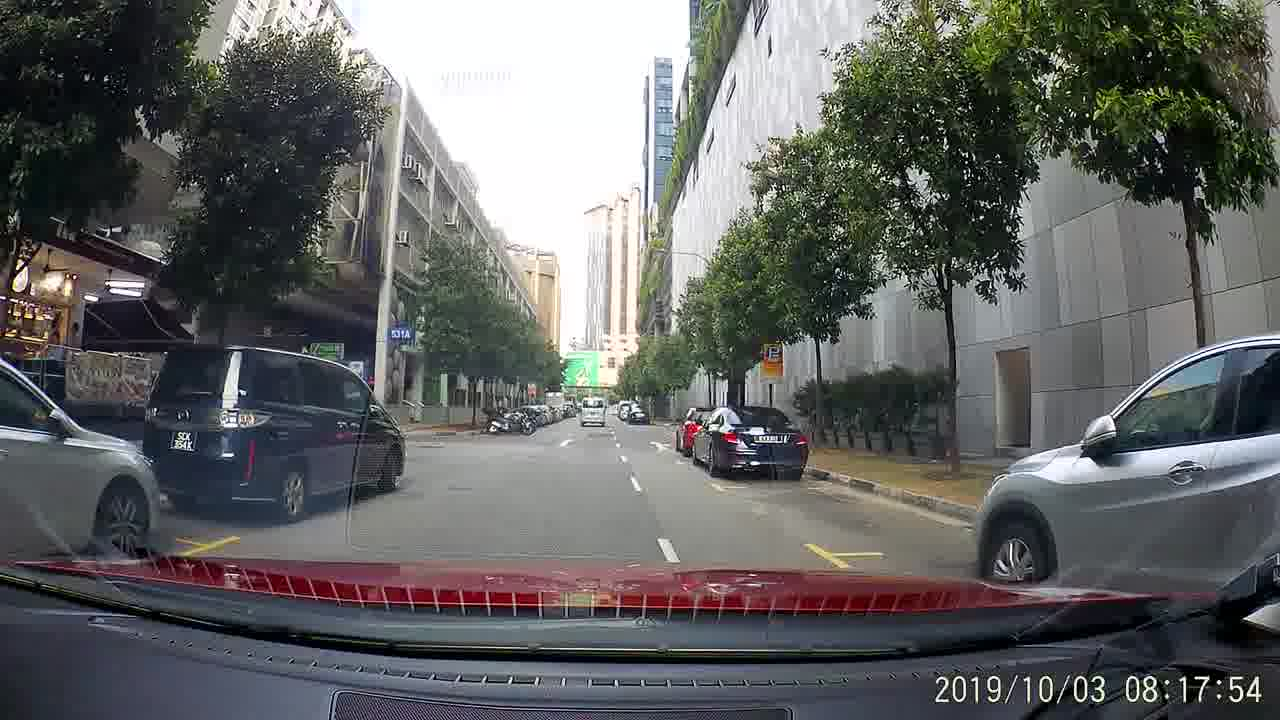car: (964, 329, 1276, 583), (138, 340, 406, 523), (1, 355, 177, 550), (687, 402, 810, 480)
